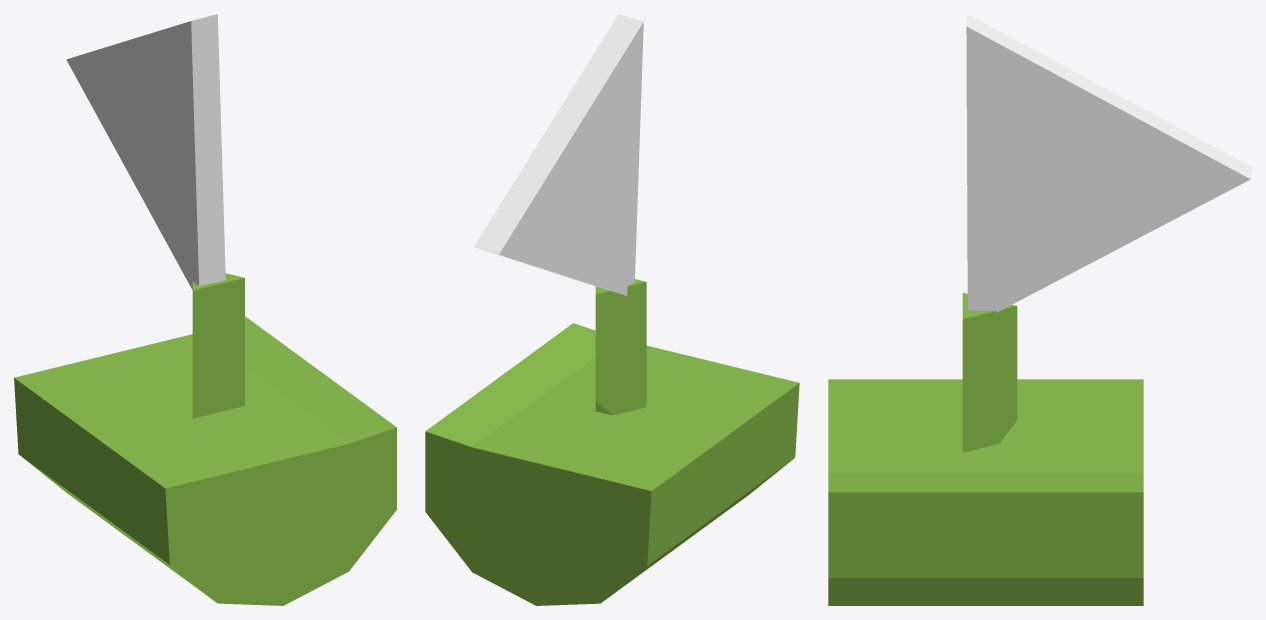
Rendered from boat2.fbx.
3 renders of one model, left to right at view 1: azimuth 30°, elevation 25°; view 2: azimuth 150°, elevation 25°; view 3: azimuth 270°, elevation 25°, orthographic. The views are drawn at different scales.
Visible parts, largest first — view 1: mesh_1812785844, group_410817031, mesh_419589608; view 2: mesh_1812785844, group_410817031, mesh_419589608; view 3: mesh_1812785844, group_410817031, mesh_419589608.
Part boxes in pixels (box(x1,y1,x2,y2)): mesh_1812785844: box(14, 316, 396, 605); group_410817031: box(66, 14, 225, 289); mesh_419589608: box(192, 273, 244, 418); mesh_1812785844: box(425, 323, 799, 605); group_410817031: box(474, 14, 643, 295); mesh_419589608: box(595, 279, 646, 415); mesh_1812785844: box(828, 379, 1143, 605); group_410817031: box(966, 14, 1251, 312); mesh_419589608: box(962, 292, 1017, 452).
Bounding box in the file's own units: 4.42 × 9.9 × 6.72.
